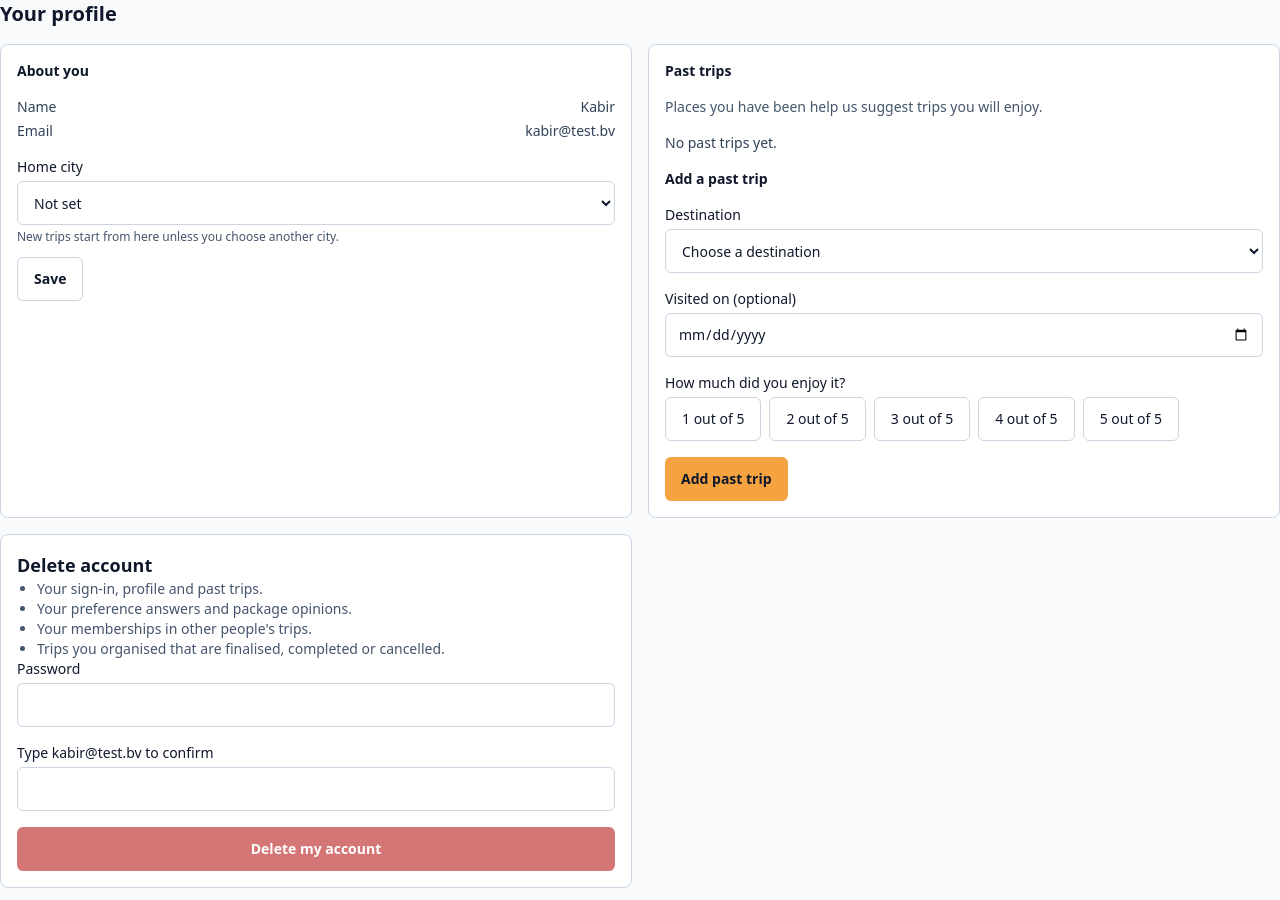
it: ProfilePage delete account › 400 field errors land next to the password and email fields
This screenshot has width=1280, height=900.
Type "pw-123456789" into the password field labelled "Password" at (316, 705), box [17,683,615,727]
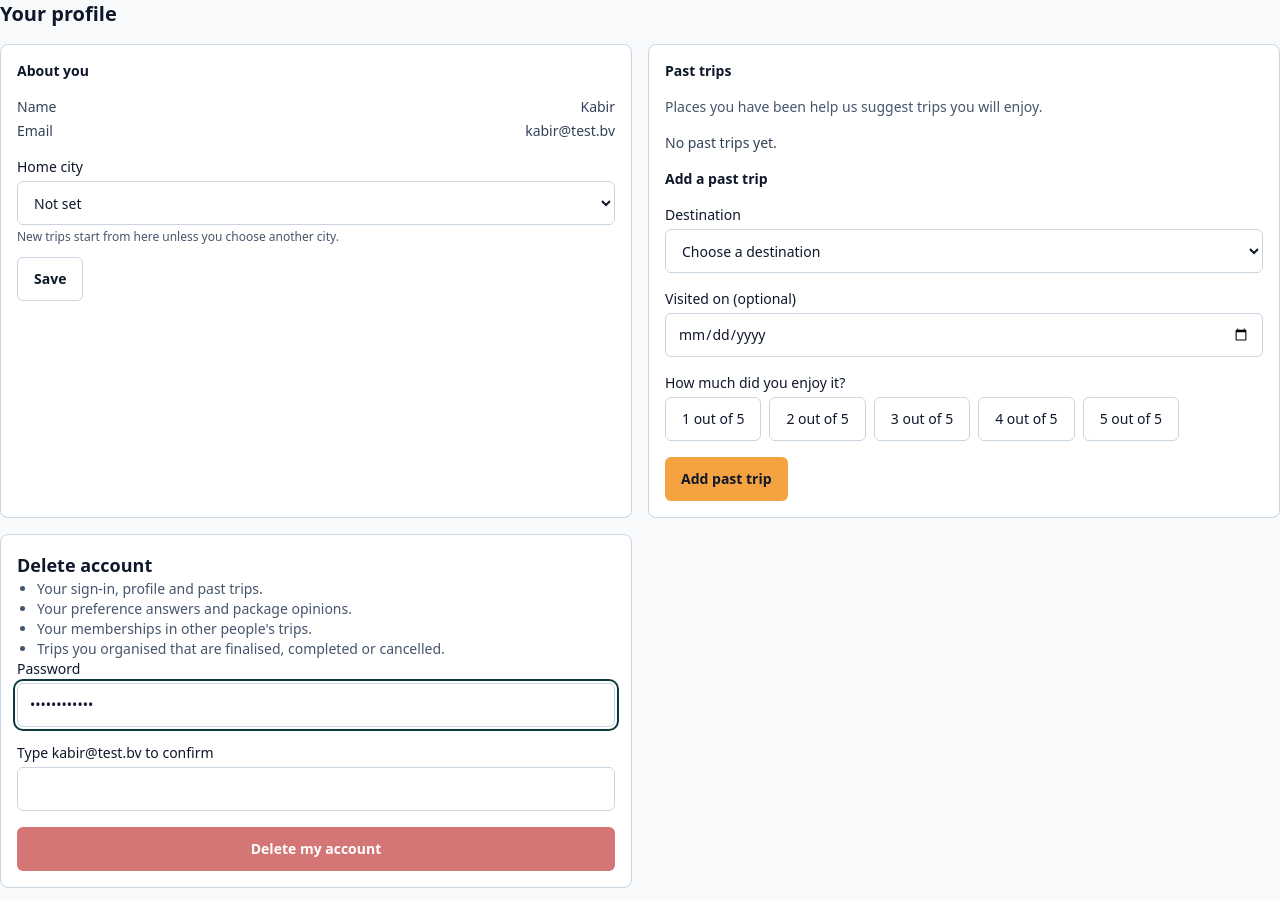
Type "someone-else@test.bv" into the field labelled "Type kabir@test.bv to confirm" at (316, 789), box [17,767,615,811]
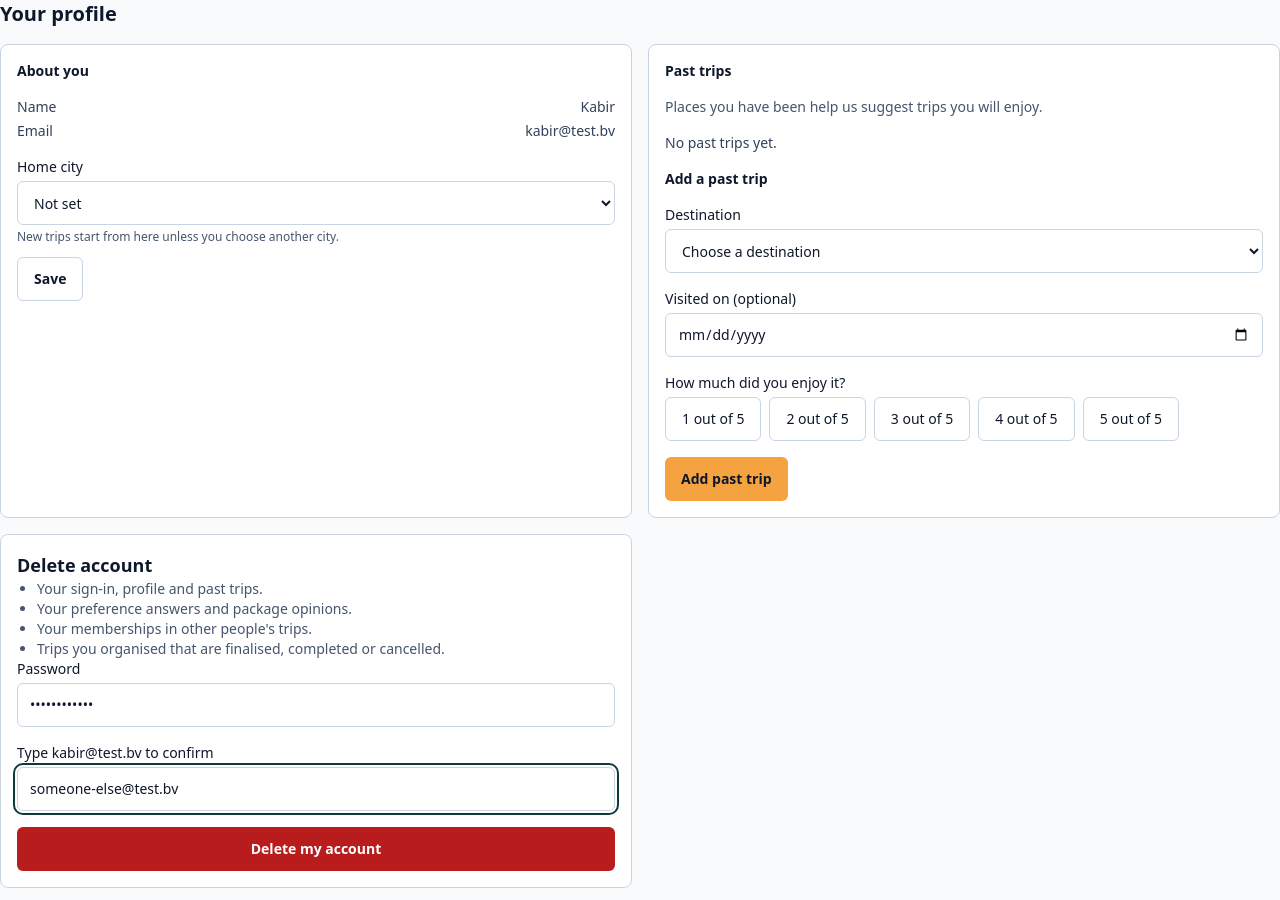
Click the button "Delete my account" at (316, 849), box [17,827,615,871]
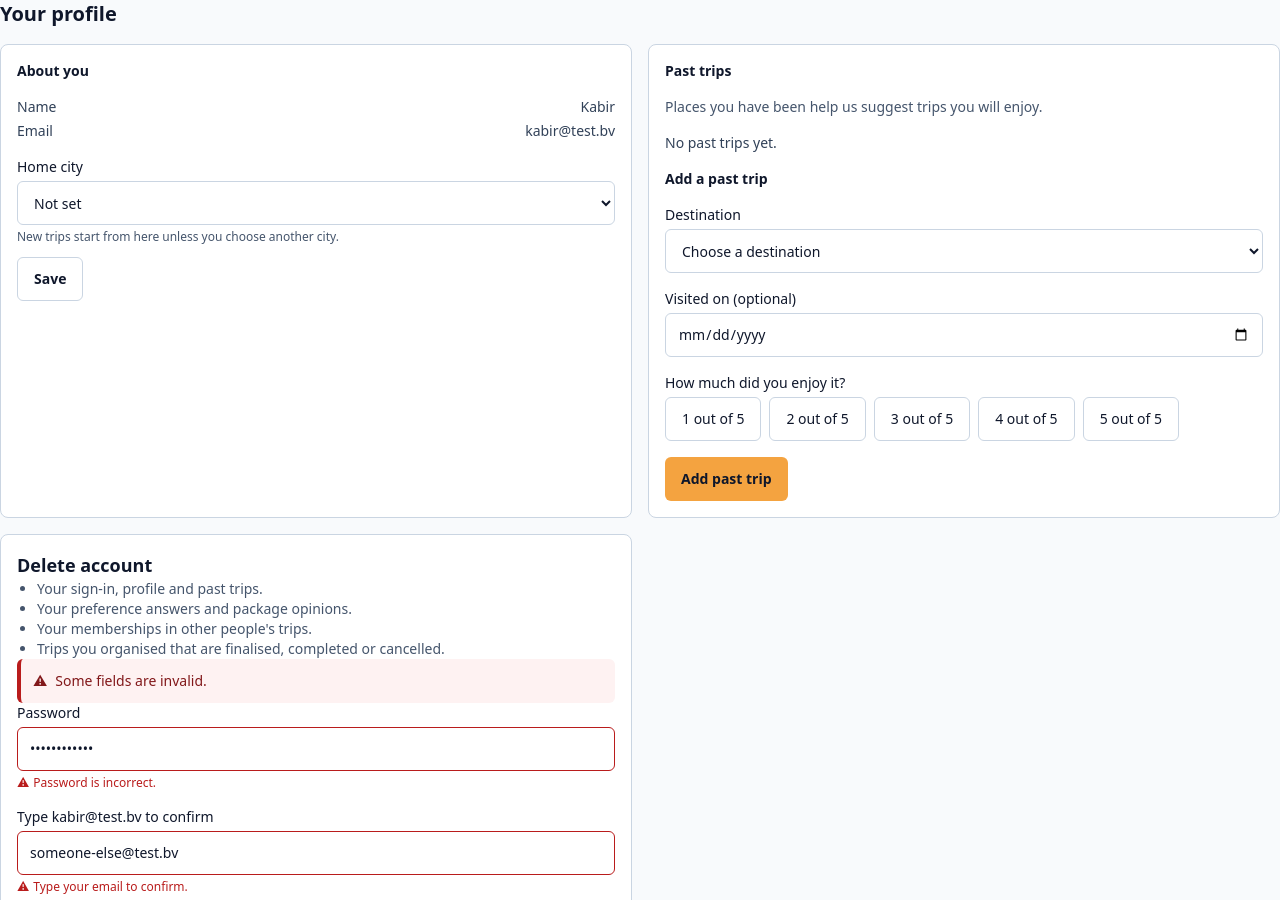
Now the text "Password is incorrect." is shown, box [33,774,156,791]
Now the text "Type your email to confirm." is shown, box [33,878,188,895]
